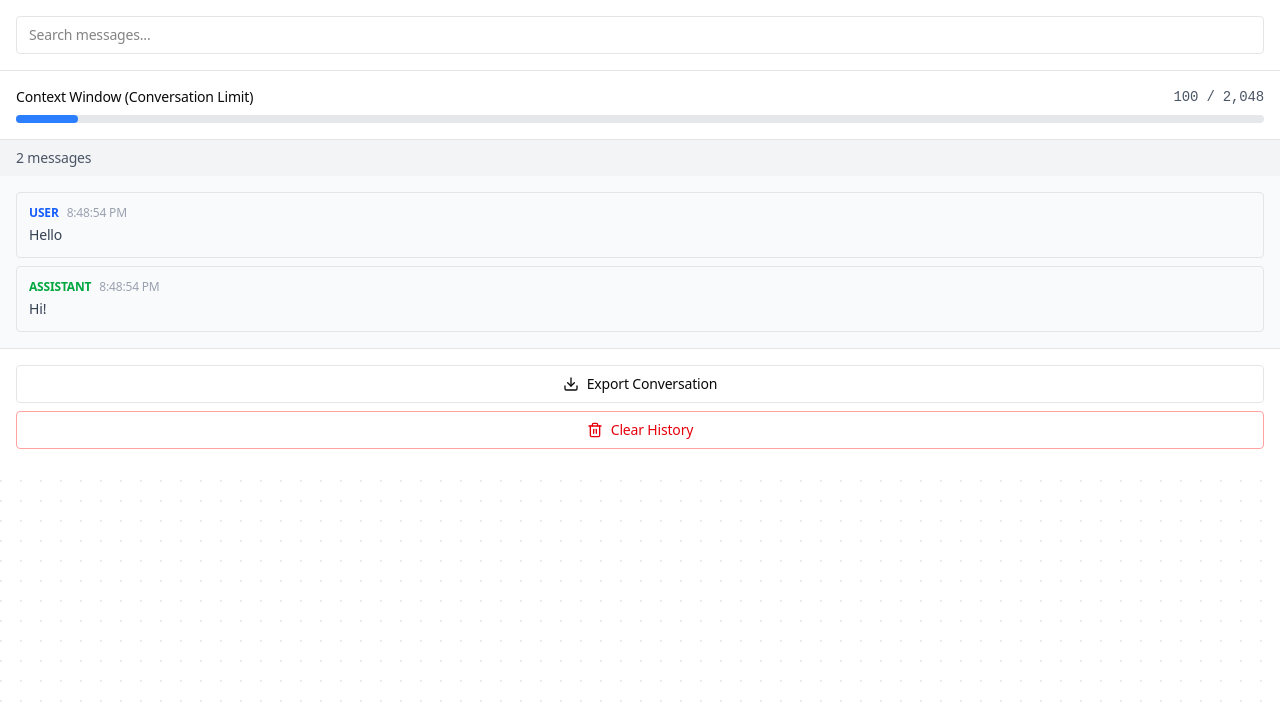
Test: ConversationHistory › should filter messages by search query
The image size is (1280, 720).
Step 1. Type "Hello" into the field with placeholder "Search messages..." → (640, 35), box 16,16 -> 1264,54
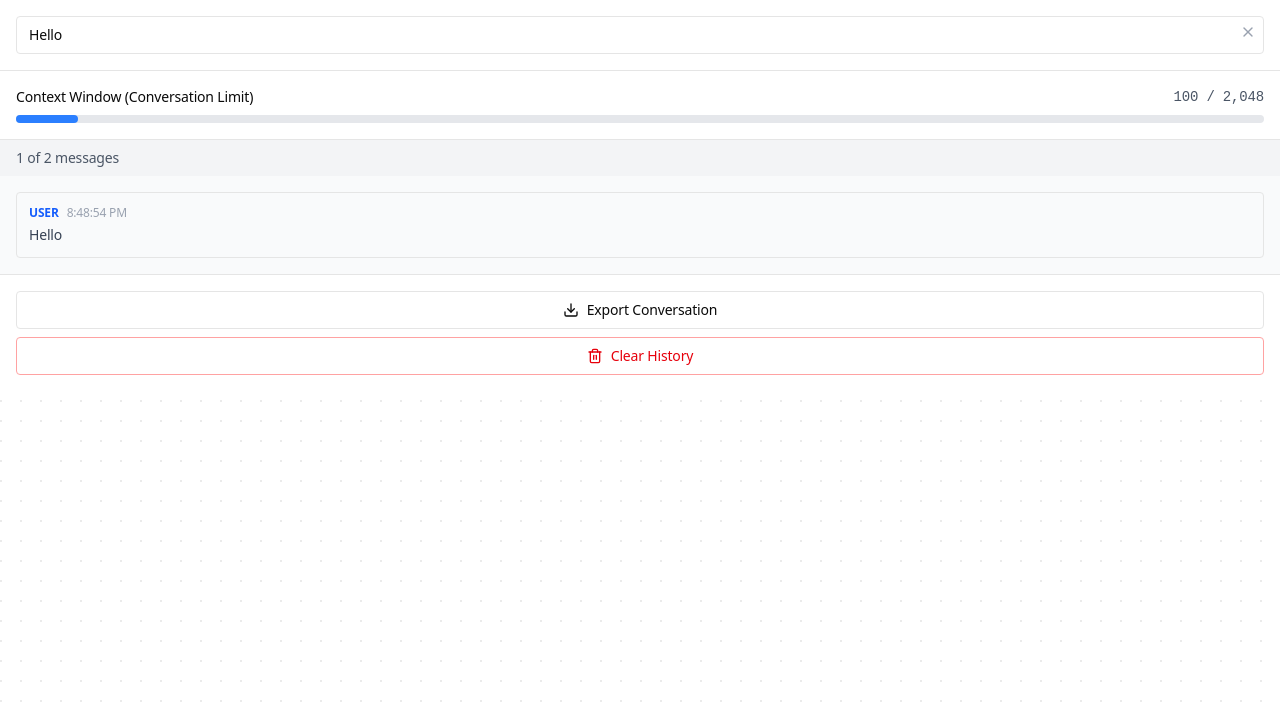
Expected: the text "Hello" is shown, 29,225 -> 62,244
Result: the button "Hi!" is gone
